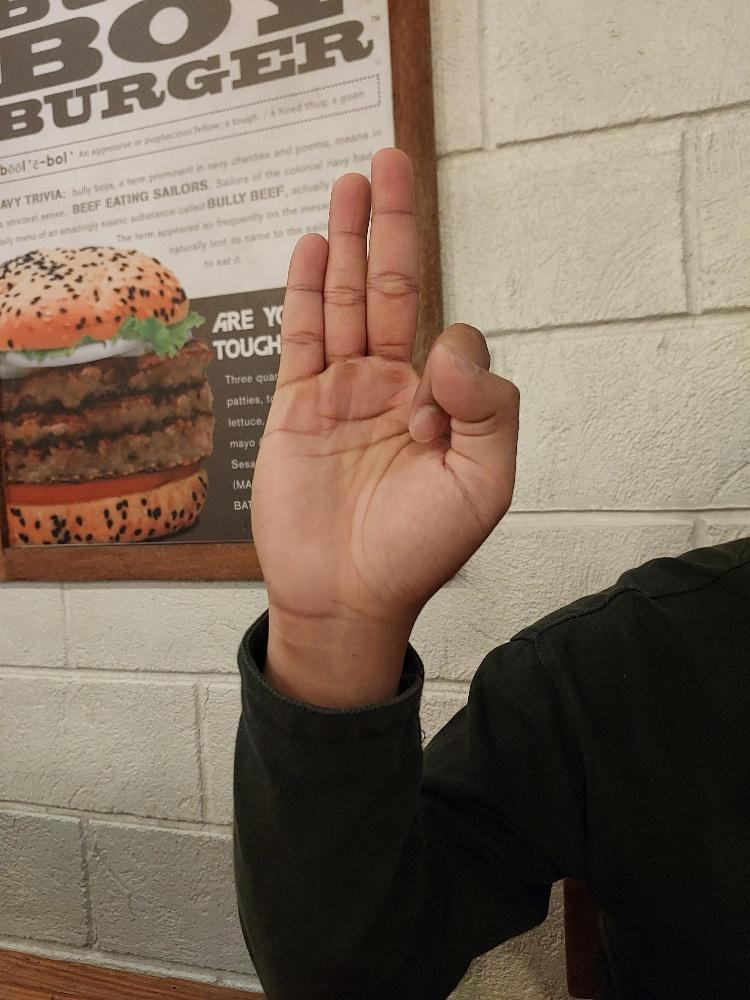f: (248, 144, 521, 627)
